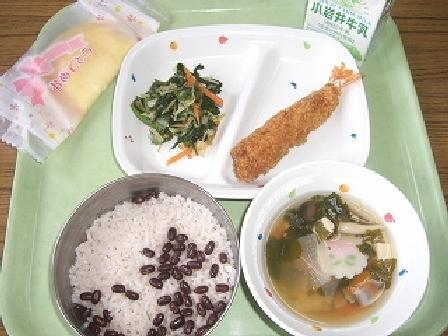Milk: (298, 1, 399, 60)
Mixed rice: (50, 169, 238, 326)
Salad: (133, 63, 227, 151)
Soups: (242, 168, 425, 328)
pastry: (6, 5, 151, 139)
seafood: (229, 57, 367, 186)
